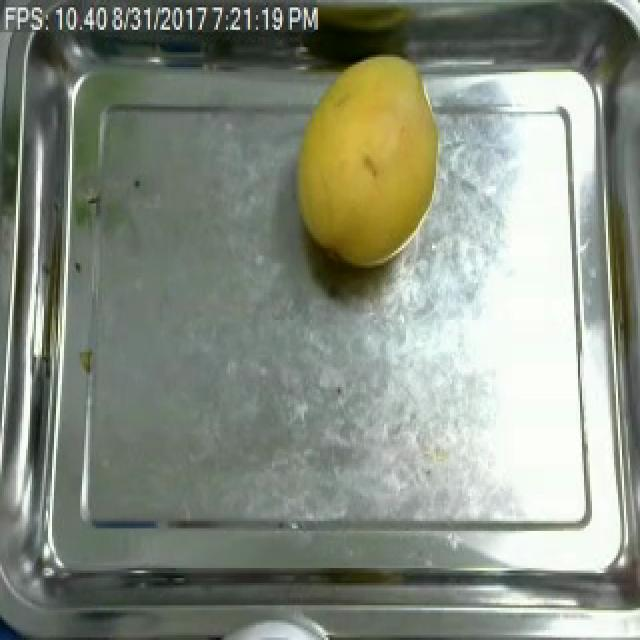fruit: (282, 47, 448, 280)
